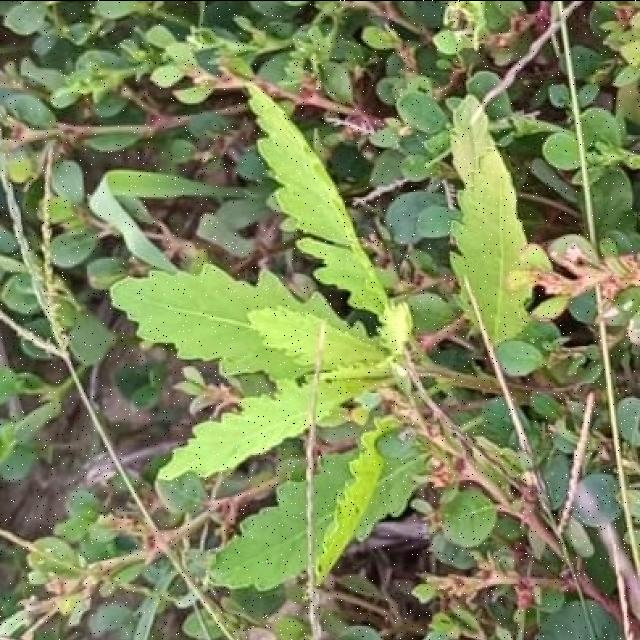weed: (111, 85, 496, 477), (210, 410, 439, 590), (450, 94, 532, 354), (442, 489, 499, 541)
